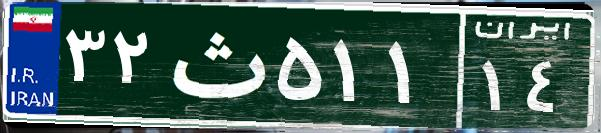1: (385, 28, 445, 110), (330, 28, 385, 110), (475, 38, 525, 113)
2: (110, 28, 158, 105)
3: (57, 26, 110, 107)
4: (525, 38, 570, 115)
5: (273, 28, 330, 110)
ث: (158, 15, 273, 115)
